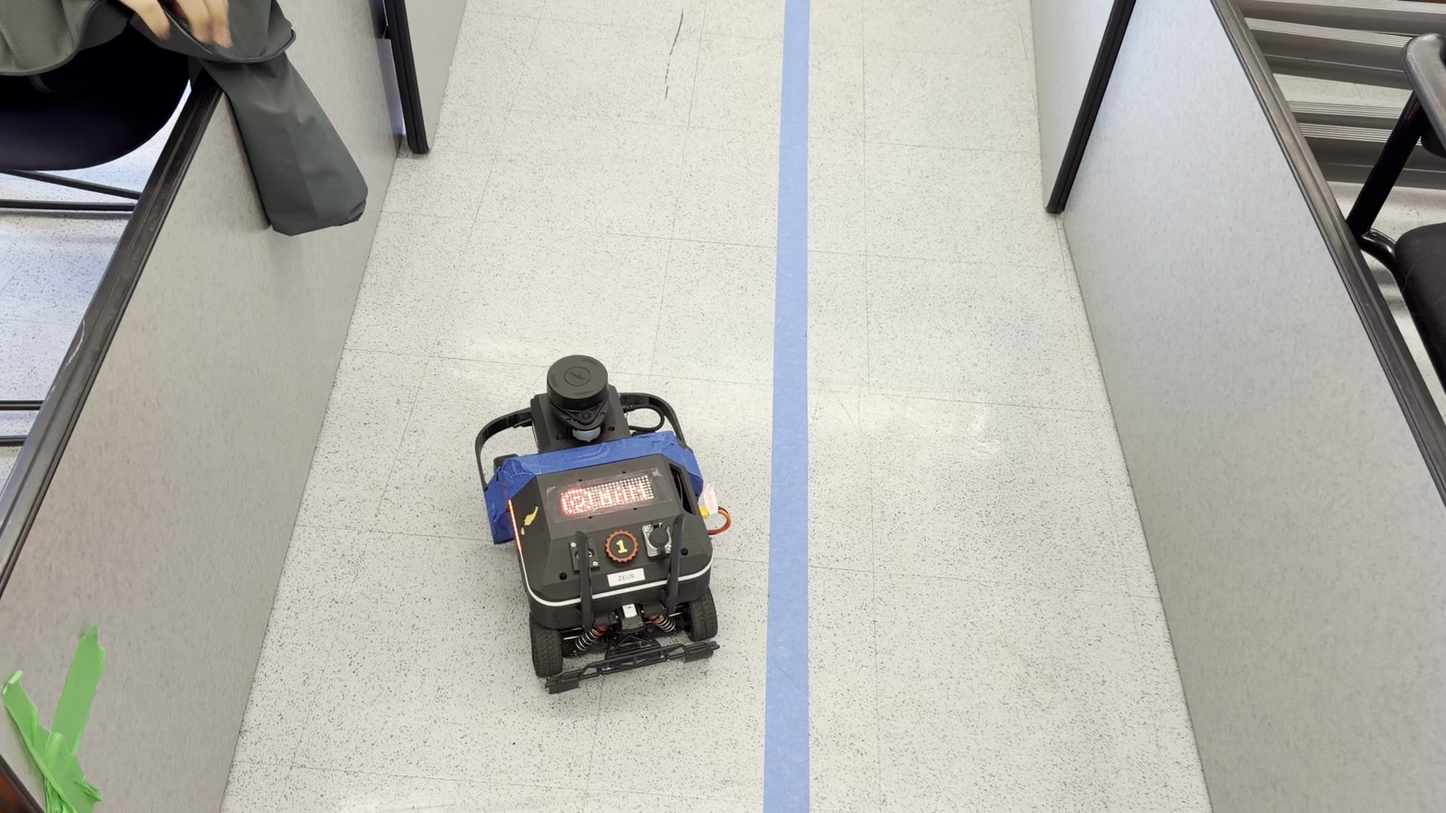racecar: (476, 352, 731, 688)
